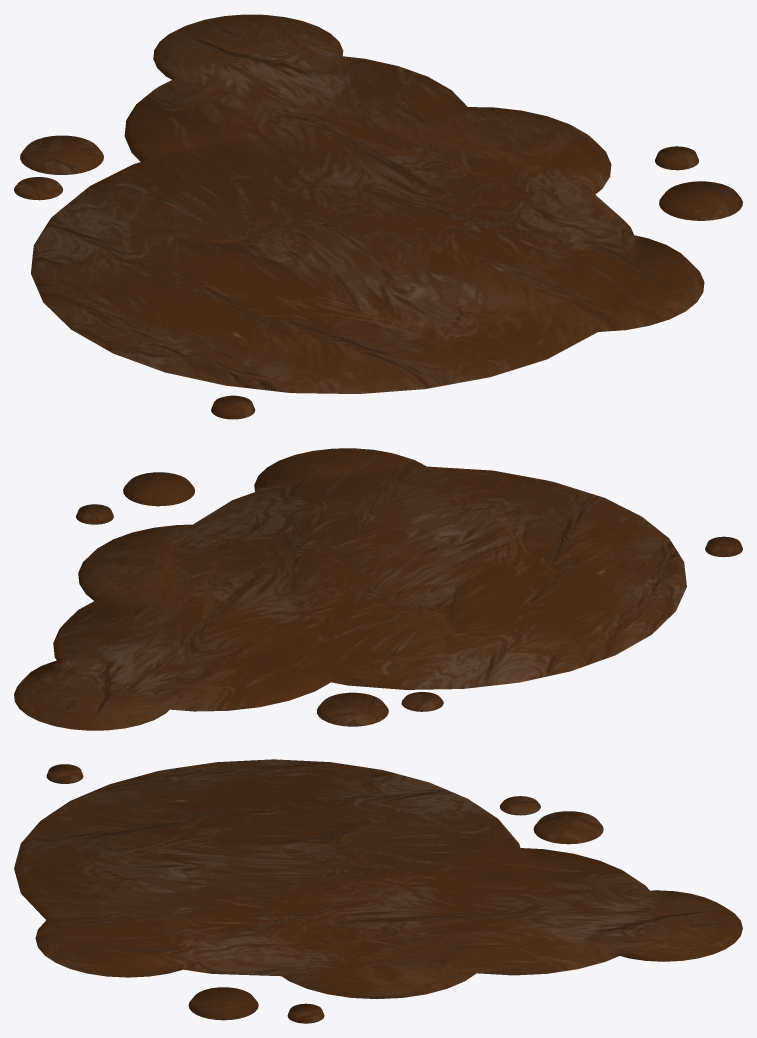
Rendered from SM_MUD.FBX.
3 views of the same model, one above another, from view 1: azimuth 30°, elevation 25°; view 2: azimuth 150°, elevation 25°; view 3: azimuth 270°, elevation 25° (orthographic). The views are drawn at different scales.
Visible parts, largest first — view 1: Object004; view 2: Object004; view 3: Object004.
Part boxes in pixels (left/top/right/bottom): Object004: left=14, top=14, right=742, bottom=419; Object004: left=14, top=448, right=742, bottom=730; Object004: left=14, top=759, right=742, bottom=1023.
Size of the model in its own units: 187 by 219 by 1.71.
